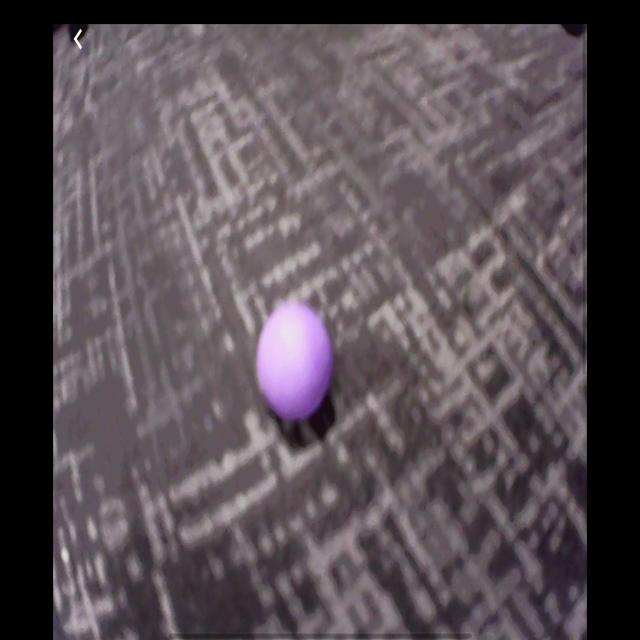ball: (255, 300, 335, 423)
